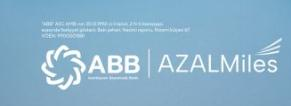ABB: (39, 42, 86, 90)
